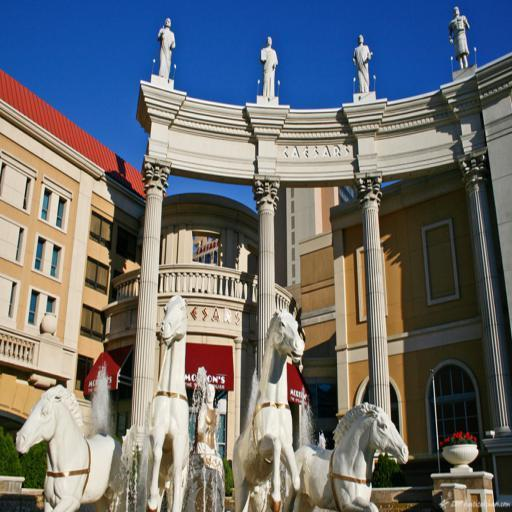horse: (230, 308, 306, 512), (280, 400, 408, 512), (16, 382, 125, 512), (144, 295, 192, 511)
